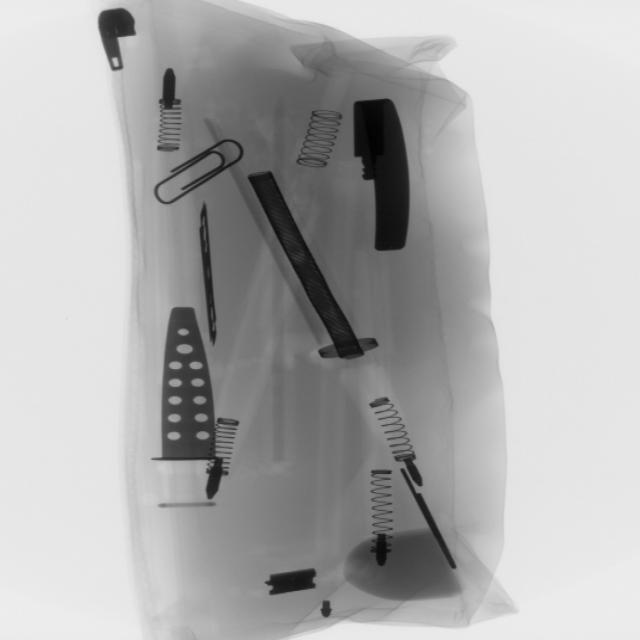SHURIKEN: (187, 200, 229, 351)
